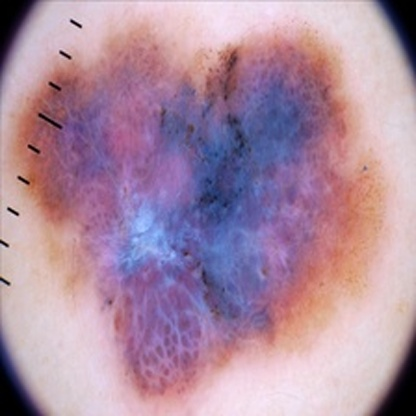malignant: (60, 47, 351, 337)
